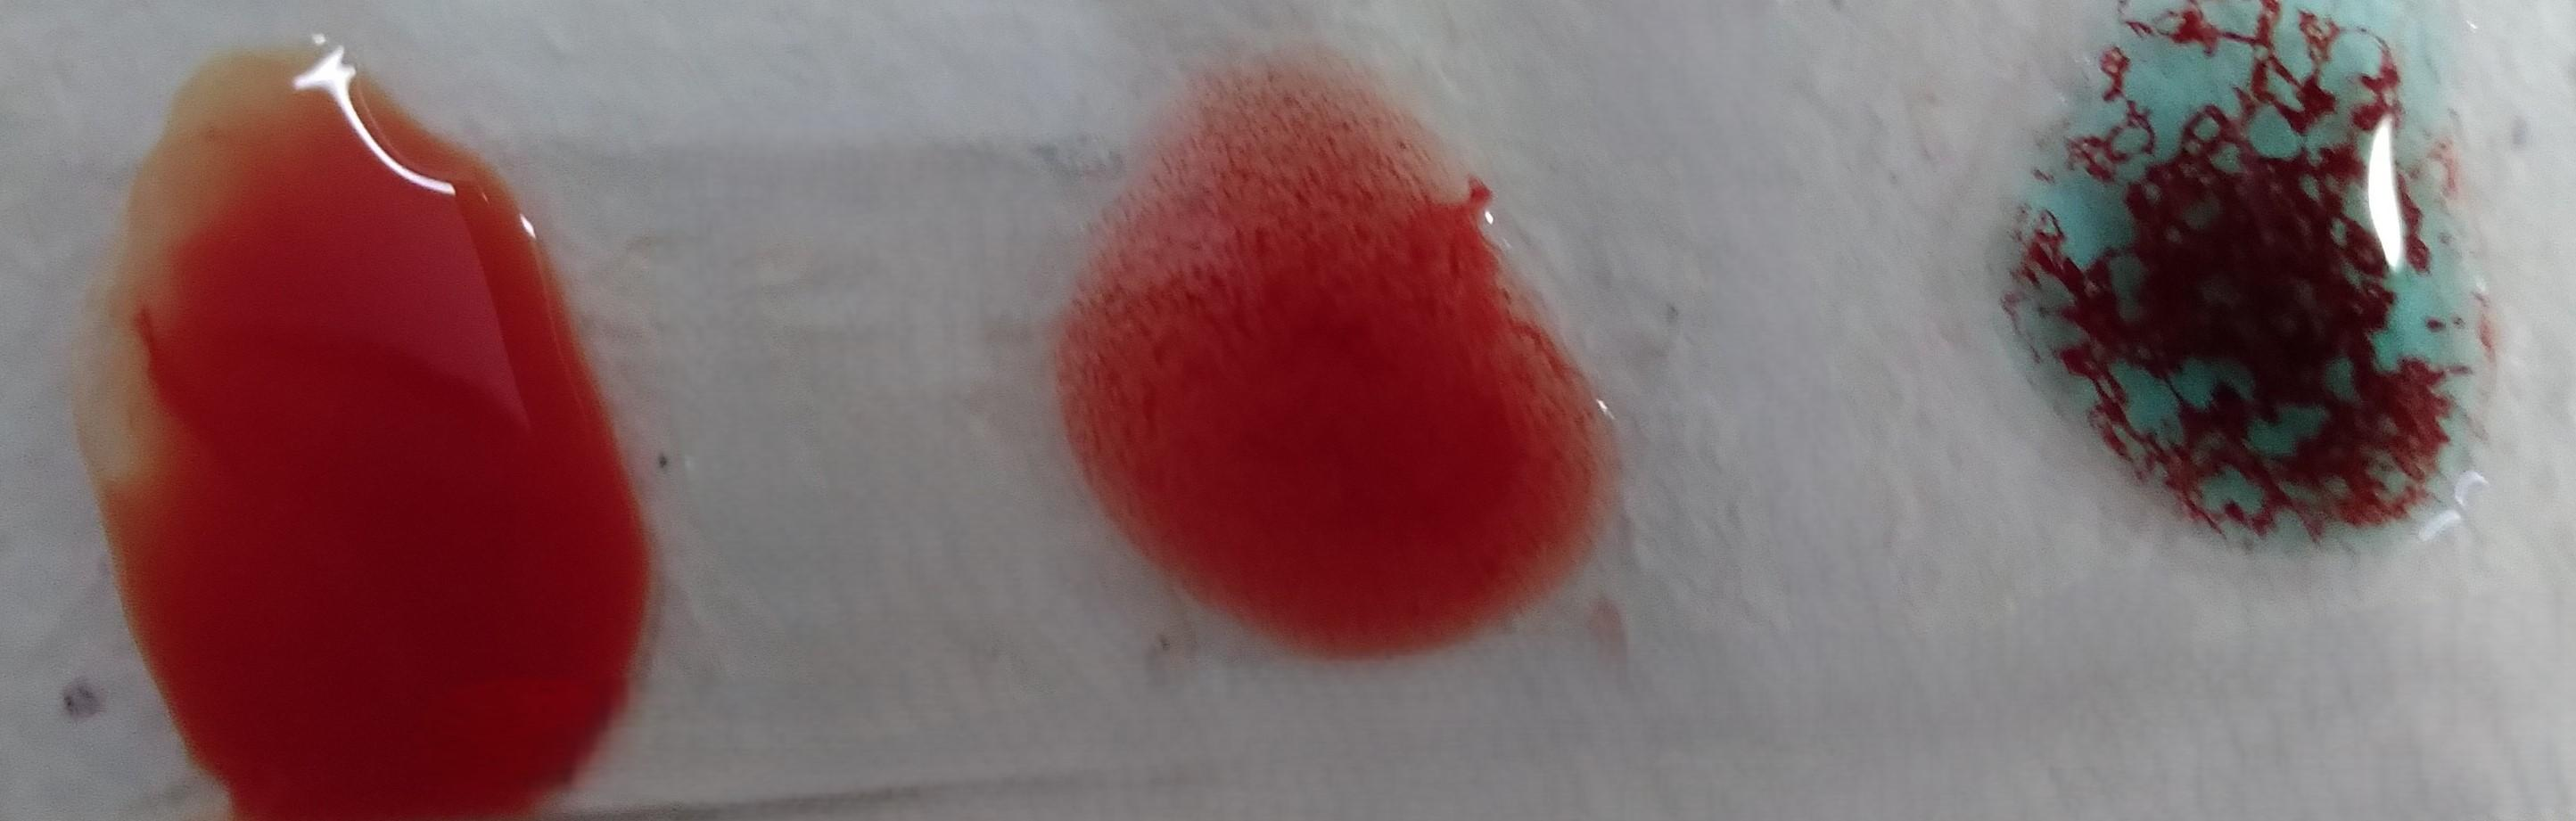A: (1996, 0, 2492, 563)
D: (1056, 79, 1615, 650)
